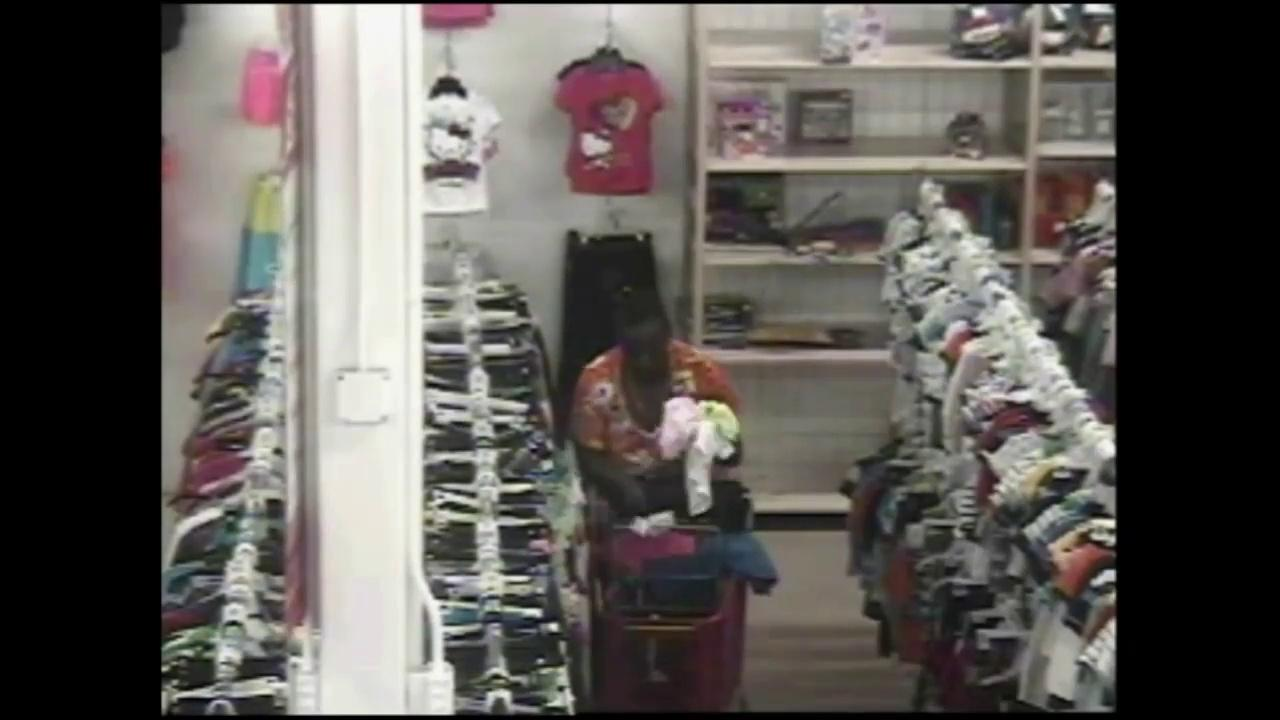Customer-Bagpack: (709, 453, 745, 531)
Product: (656, 390, 745, 479)
Product-Picked: (518, 240, 814, 651)
